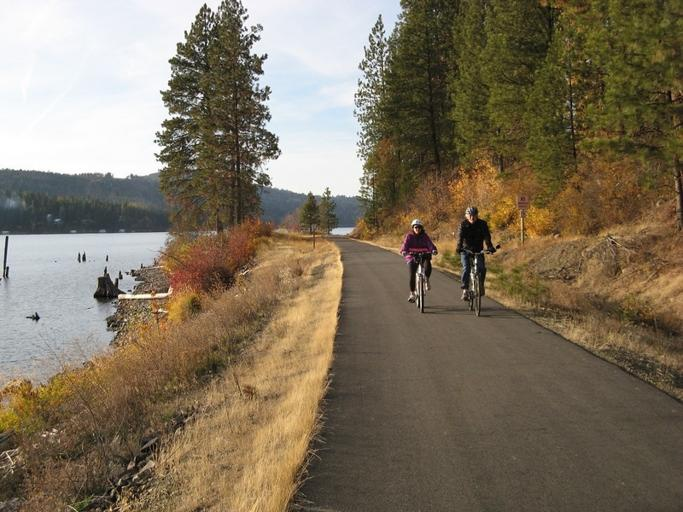non-vehicle: (455, 244, 500, 318), (401, 250, 436, 313)
